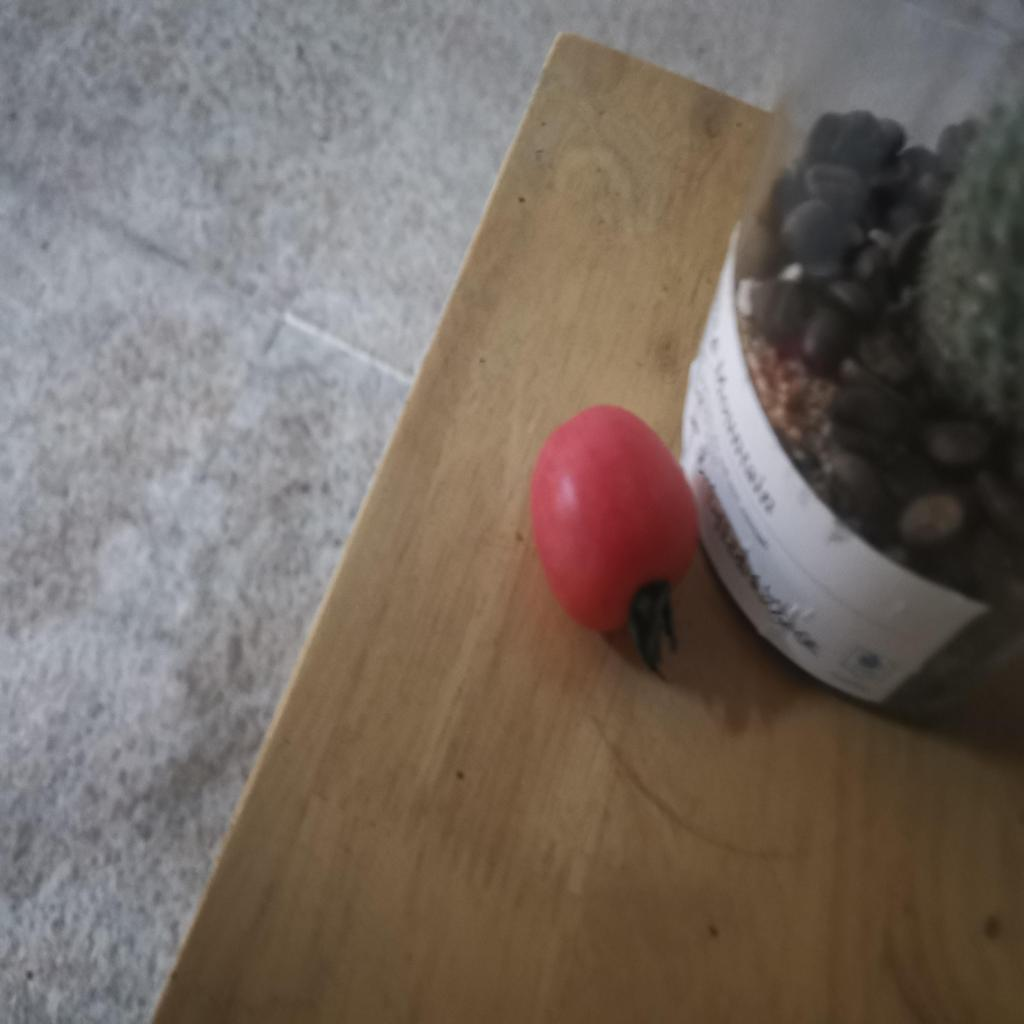tomato: (529, 399, 712, 683)
